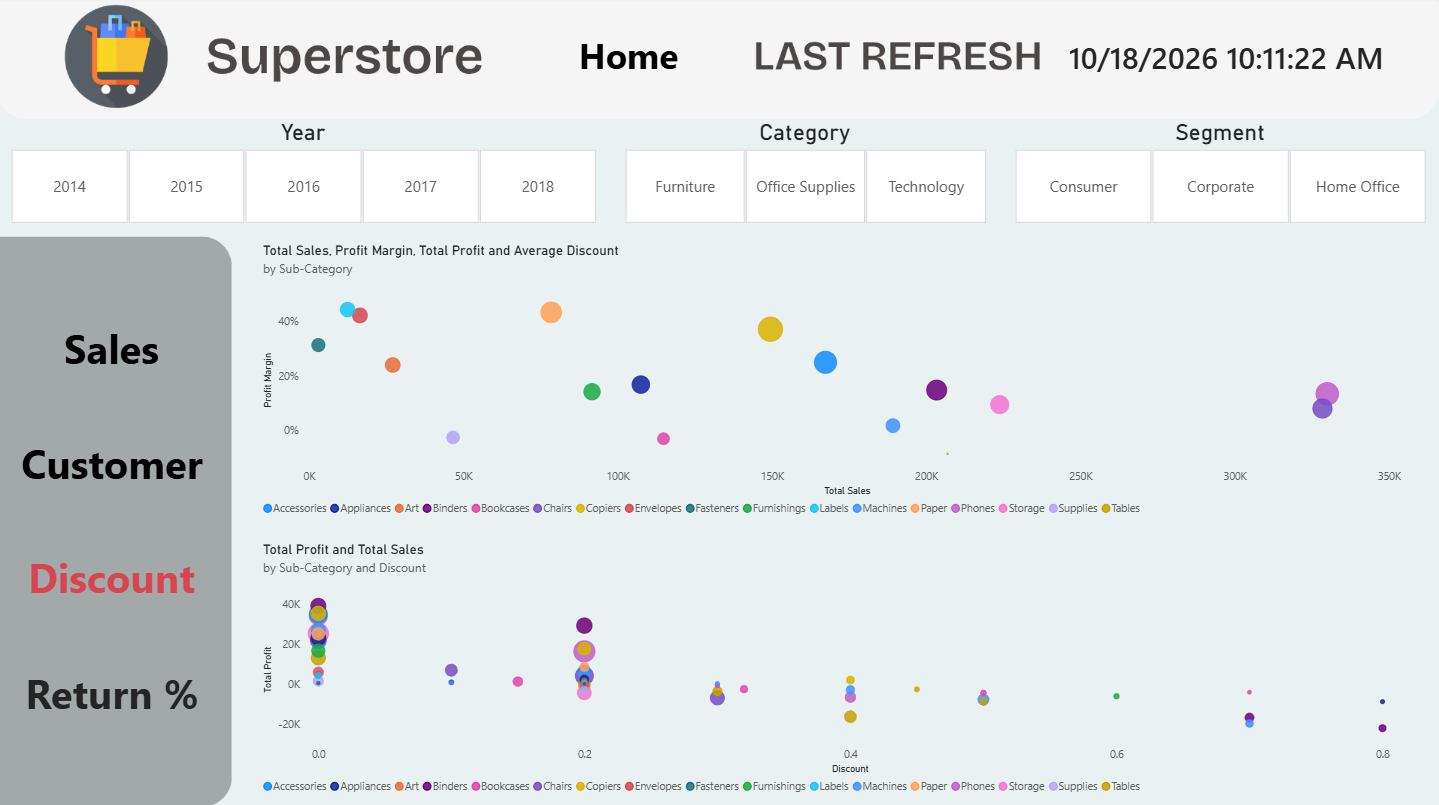

This screenshot's page, from the dashboard's own definition file:
{"tool":"powerbi","page":{"name":"Discount & Profitability","canvas":[1920,1080],"ordinal":3},"visuals":[{"type":"scatterChart","fields":{"X":["All Measures.Total Sales"],"Y":["All Measures.Profit Margin"],"Size":["All Measures.Total Profit"],"Series":["Dim Product.Sub-Category"]},"box":[339.2,312.6,1545.5,397.7],"z":0},{"type":"scatterChart","fields":{"X":["Fact Orders.Discount"],"Y":["All Measures.Total Profit"],"Size":["All Measures.Total Sales"],"Series":["Dim Product.Sub-Category"]},"box":[339.2,710.2,1545.5,369.8],"z":1000},{"type":"cardVisual","title":"Return Rate","fields":{"Data":["All Measures.LastRefresh"]},"box":[1352.1,13.3,567.9,130.3],"z":2000},{"type":"actionButton","title":"Sales","box":[75.8,405.7,155.6,122.4],"z":3000},{"type":"actionButton","title":"Sales","box":[30.6,710.2,246.1,123.7],"z":4000},{"type":"actionButton","title":"Sales","box":[21.3,558.6,266,122.4],"z":5000},{"type":"actionButton","title":"Sales","box":[26.6,864.5,255.4,122.4],"z":6000},{"type":"slicer","title":"Year","fields":{"Values":["Dim Date.Year"]},"box":[0,162.3,816.7,139.7],"z":7000},{"type":"slicer","title":"Segment","fields":{"Values":["Dim Customer.Segment"]},"box":[1334.8,162.3,585.2,139.7],"z":8000},{"type":"slicer","title":"Category","fields":{"Values":["Dim Product.Category"]},"box":[816.7,162.3,518.7,139.7],"z":9000},{"type":"actionButton","title":"Sales","box":[755.5,17.3,171.6,122.4],"z":10000}]}

Visuals, with their boxes in screenshot pixels (x1, y1, x2, y2), scaled from the page's 1920x1080 canvas onto the 1439x805 screenshot:
scatterChart - All Measures.Total Sales x All Measures.Profit Margin: BBox(254, 233, 1413, 529)
scatterChart - Fact Orders.Discount x All Measures.Total Profit: BBox(254, 529, 1413, 804)
"Return Rate" cardVisual: BBox(1013, 10, 1438, 107)
"Sales" actionButton: BBox(57, 302, 173, 394)
"Sales" actionButton: BBox(23, 529, 207, 622)
"Sales" actionButton: BBox(16, 416, 215, 508)
"Sales" actionButton: BBox(20, 644, 211, 736)
"Year" slicer: BBox(0, 121, 612, 225)
"Segment" slicer: BBox(1000, 121, 1438, 225)
"Category" slicer: BBox(612, 121, 1001, 225)
"Sales" actionButton: BBox(566, 13, 695, 104)
